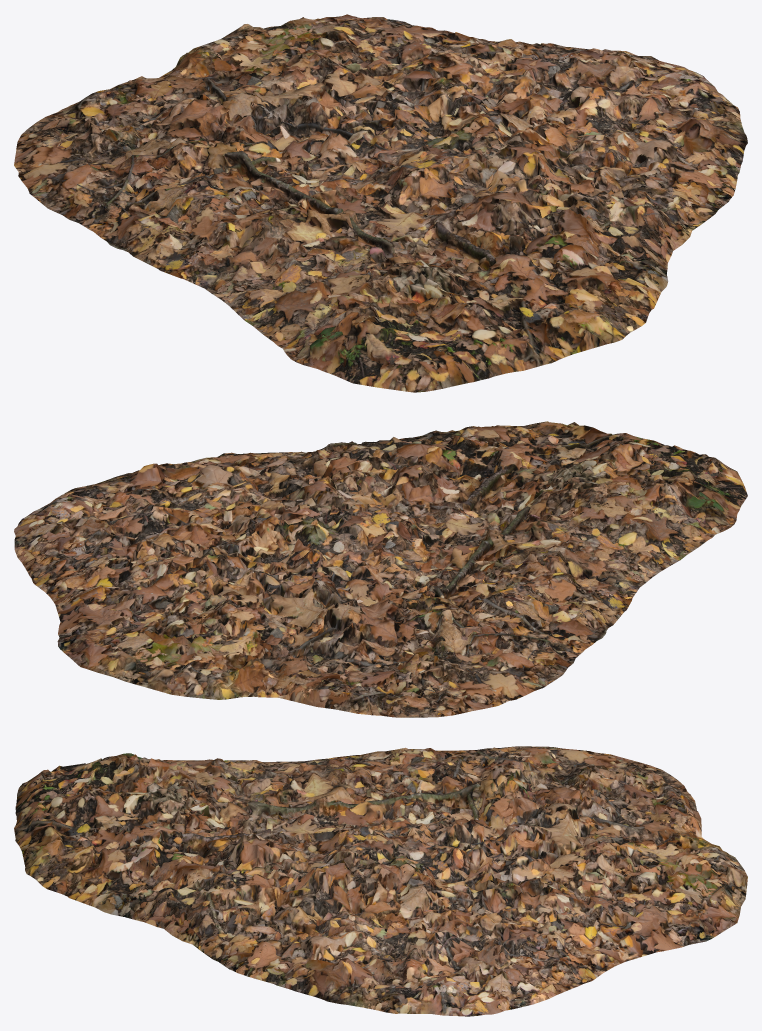
File: sm_Leaves_01_01.fbx
3 views of the same model, one above another, from view 1: azimuth 30°, elevation 25°; view 2: azimuth 150°, elevation 25°; view 3: azimuth 270°, elevation 25° (orthographic). The views are drawn at different scales.
Parts seen in each view (by area): view 1: sm_Leaves_01_01_LOD0; view 2: sm_Leaves_01_01_LOD0; view 3: sm_Leaves_01_01_LOD0.
Part boxes in pixels (<box>): sm_Leaves_01_01_LOD0: <box>14,14,747,392</box>; sm_Leaves_01_01_LOD0: <box>14,421,747,717</box>; sm_Leaves_01_01_LOD0: <box>14,746,747,1016</box>.
Bounding box in the file's own units: 226 × 259 × 15.83.
